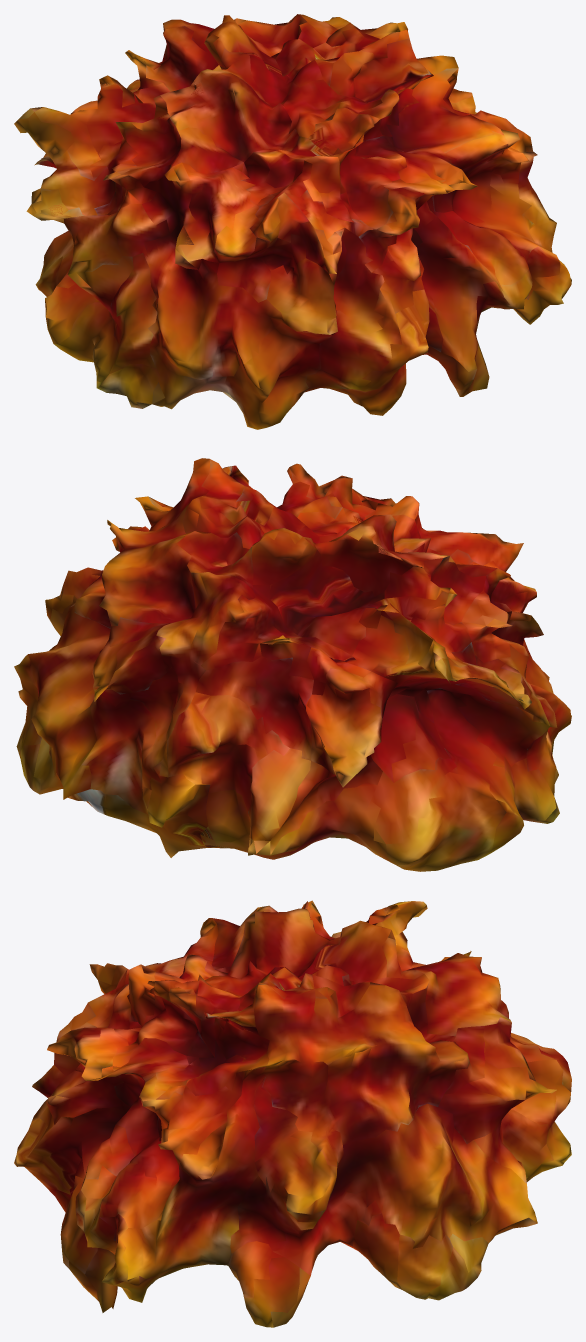
3 views of the same model, one above another, from view 1: azimuth 30°, elevation 25°; view 2: azimuth 150°, elevation 25°; view 3: azimuth 270°, elevation 25° (orthographic). The views are drawn at different scales.
Parts seen in each view (by area): view 1: 81b1cd4e; view 2: 81b1cd4e; view 3: 81b1cd4e.
Part boxes in pixels (bbox=[...]): 81b1cd4e: bbox=[14, 14, 571, 429]; 81b1cd4e: bbox=[14, 458, 571, 871]; 81b1cd4e: bbox=[14, 900, 571, 1327].
Bounding box in the file's own units: 0.0782 × 0.0494 × 0.0769.
1 material, 1 textured.
